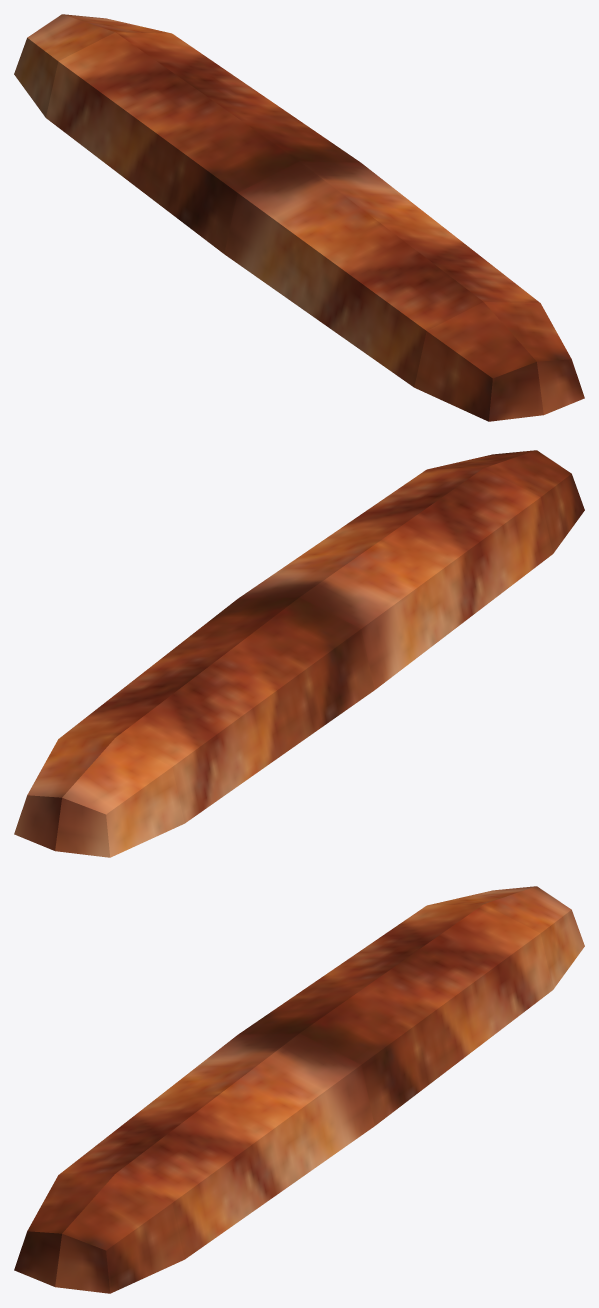
File: golden_ease_top.fbx
3 views of the same model, one above another, from view 1: azimuth 30°, elevation 25°; view 2: azimuth 150°, elevation 25°; view 3: azimuth 330°, elevation 25° (orthographic).
Parts seen in each view (by area): view 1: golden ease top; view 2: golden ease top; view 3: golden ease top.
Part boxes in pixels (x1,y1,x2,y2): golden ease top: (14,14,584,421); golden ease top: (14,450,584,857); golden ease top: (14,886,584,1293).
Size of the model in its own units: 0.2082 by 1.17 by 0.099.
